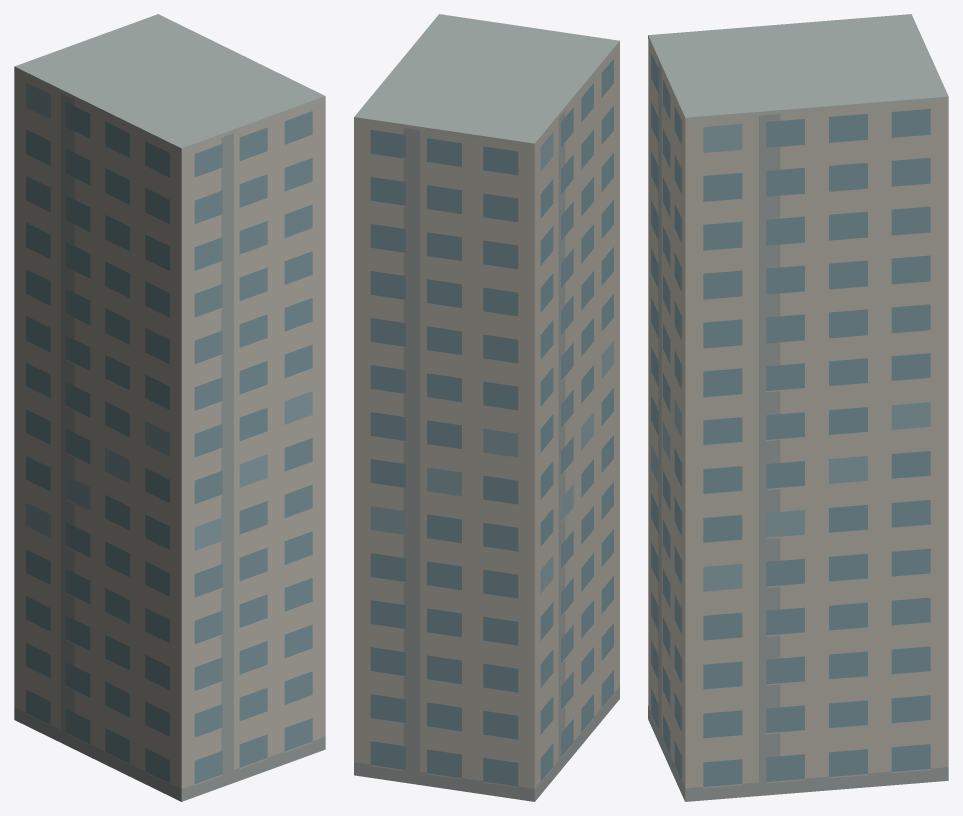
File: residential-330c1b3e-c651-4dbb-a2ab-7c7b182a0446.glb
The picture shows the model from 3 angles, left to right: view 1: azimuth 30°, elevation 25°; view 2: azimuth 150°, elevation 25°; view 3: azimuth 270°, elevation 25°; orthographic projection. The views are drawn at different scales.
Parts seen in each view (by area): view 1: residential-330c1b3e-c651-4dbb-a2ab-7c7b182a0446.tmp; view 2: residential-330c1b3e-c651-4dbb-a2ab-7c7b182a0446.tmp; view 3: residential-330c1b3e-c651-4dbb-a2ab-7c7b182a0446.tmp.
Part boxes in pixels (x1=…): residential-330c1b3e-c651-4dbb-a2ab-7c7b182a0446.tmp: x1=14, y1=14, x2=325, y2=801; residential-330c1b3e-c651-4dbb-a2ab-7c7b182a0446.tmp: x1=354, y1=14, x2=619, y2=801; residential-330c1b3e-c651-4dbb-a2ab-7c7b182a0446.tmp: x1=648, y1=14, x2=948, y2=801.
Bounding box in the file's own units: 13.66 × 42 × 16.73.
